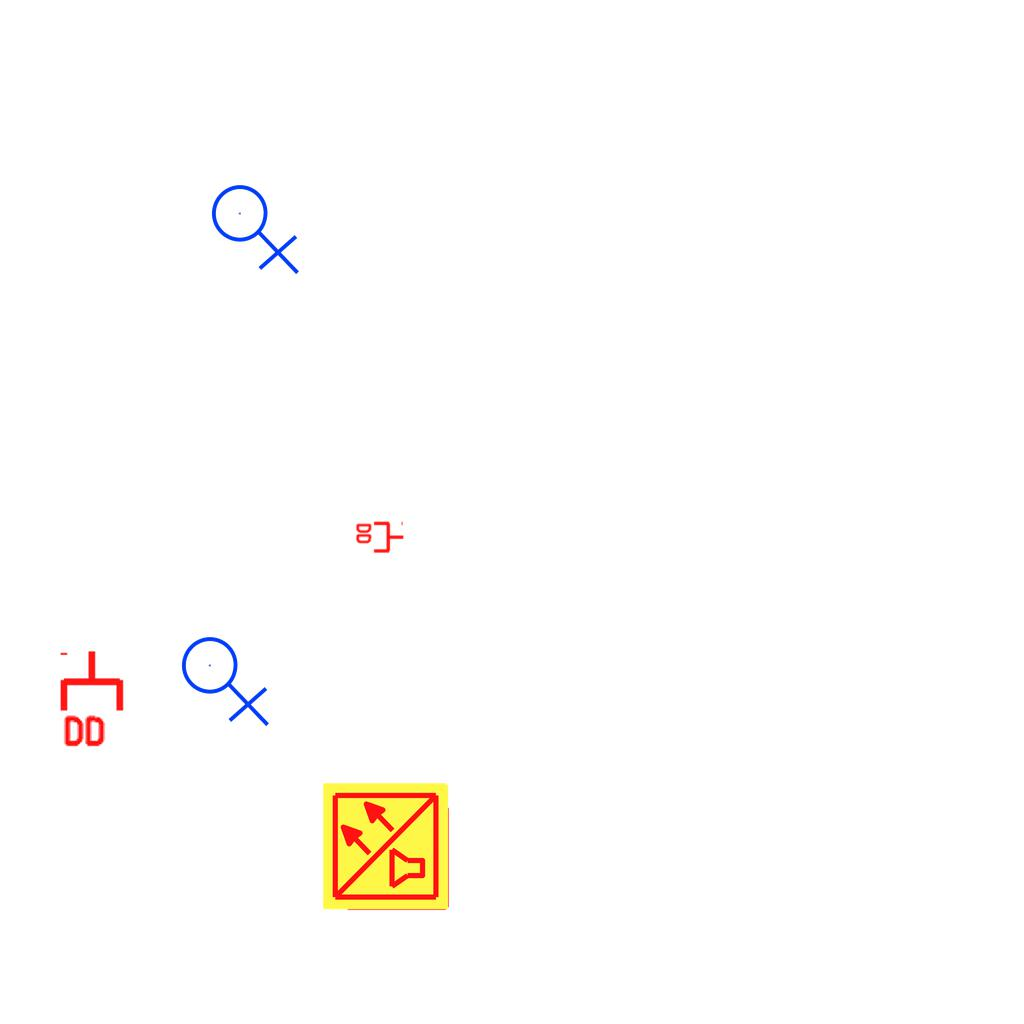Datenanschluss_zweifach: (59, 648, 128, 751), (354, 521, 405, 555)
Elektroanschluss_allgemein_230V_Geraeteanschlussdose_230V: (180, 628, 274, 727), (210, 176, 304, 275)
OKW_Multisensormelder_(Kombination_optischer_Rauch-Kahlenmonoxid_Waerme-Melder): (320, 780, 452, 912)
